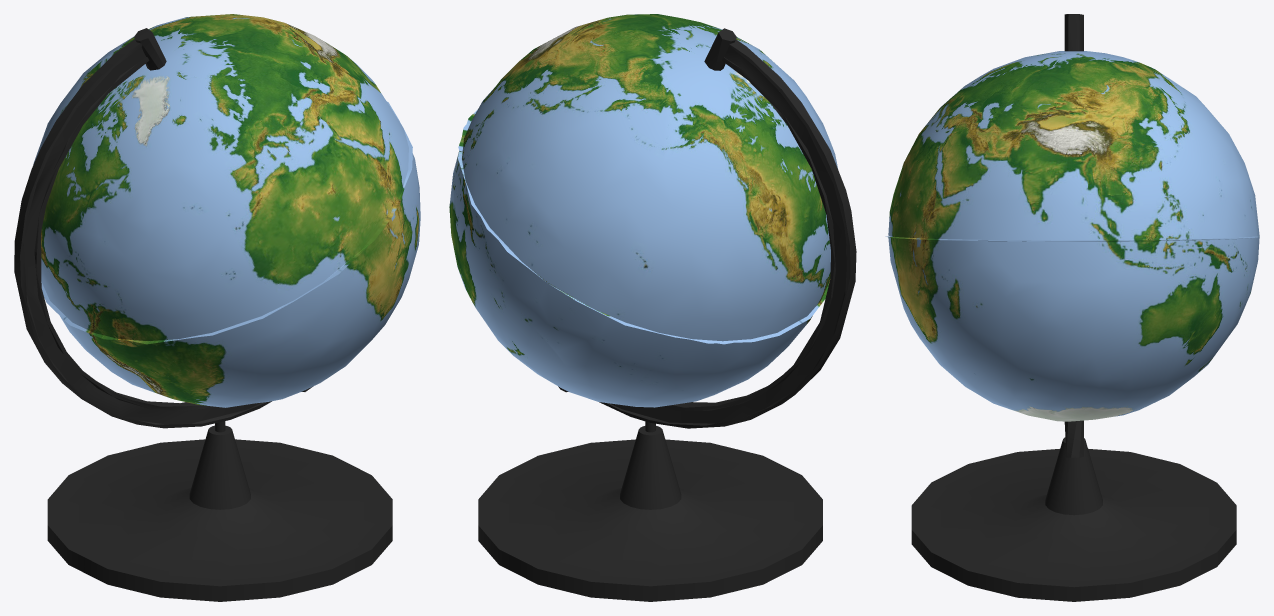
File: World.FBX
3 renders of one model, left to right at view 1: azimuth 30°, elevation 25°; view 2: azimuth 150°, elevation 25°; view 3: azimuth 270°, elevation 25°, orthographic. The views are drawn at different scales.
Parts seen in each view (by area): view 1: world; view 2: world; view 3: world.
Part boxes in pixels (left/top/right/bottom): world: left=14, top=14, right=420, bottom=601; world: left=449, top=14, right=856, bottom=601; world: left=885, top=14, right=1259, bottom=601.
Bounding box in the file's own units: 56.35 × 73.46 × 51.34.
Materials: 2 (1 with a texture image).
